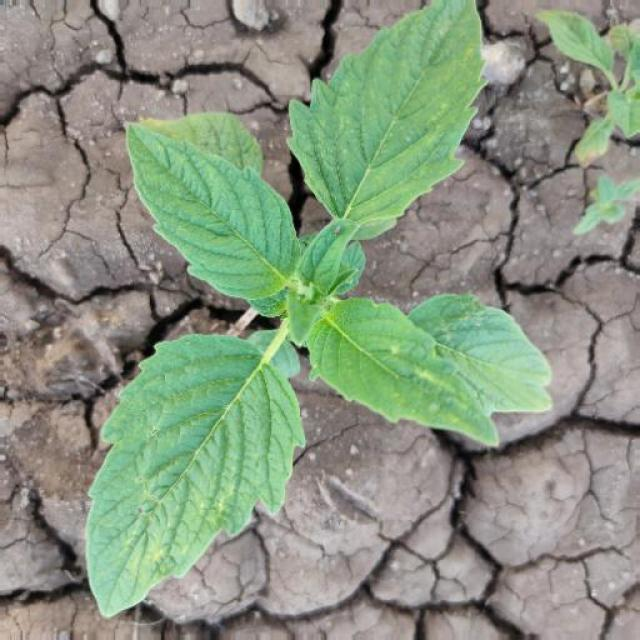crop: (59, 8, 566, 622)
